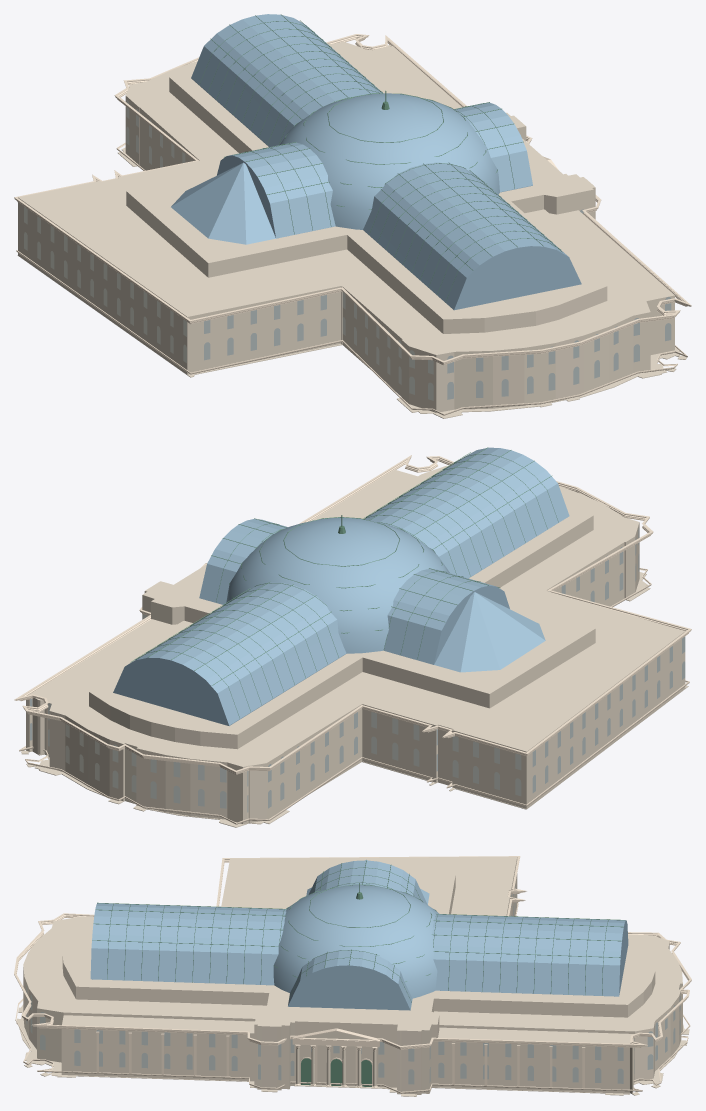
The model's file is detail.glb.
The picture shows the model from 3 angles, top to bottom: view 1: azimuth 30°, elevation 25°; view 2: azimuth 150°, elevation 25°; view 3: azimuth 270°, elevation 25°; orthographic projection. The views are drawn at different scales.
Parts seen in each view (by area): view 1: stone, glass, trim, window, metal; view 2: stone, glass, trim, window, metal; view 3: stone, glass, trim, metal, window.
Boxes of the visible parts, bbox=[...] form: stone: bbox=[17, 41, 686, 418]; glass: bbox=[171, 14, 581, 310]; trim: bbox=[14, 34, 691, 415]; window: bbox=[24, 100, 671, 400]; metal: bbox=[199, 14, 562, 302]; stone: bbox=[21, 465, 688, 827]; glass: bbox=[113, 447, 569, 725]; trim: bbox=[14, 455, 691, 824]; window: bbox=[30, 528, 685, 812]; metal: bbox=[130, 447, 558, 718]; stone: bbox=[16, 856, 689, 1096]; glass: bbox=[90, 859, 628, 1010]; trim: bbox=[14, 856, 691, 1093]; metal: bbox=[92, 860, 625, 1086]; window: bbox=[26, 876, 680, 1084].
Bounding box in the file's own units: 161 × 56 × 242.
